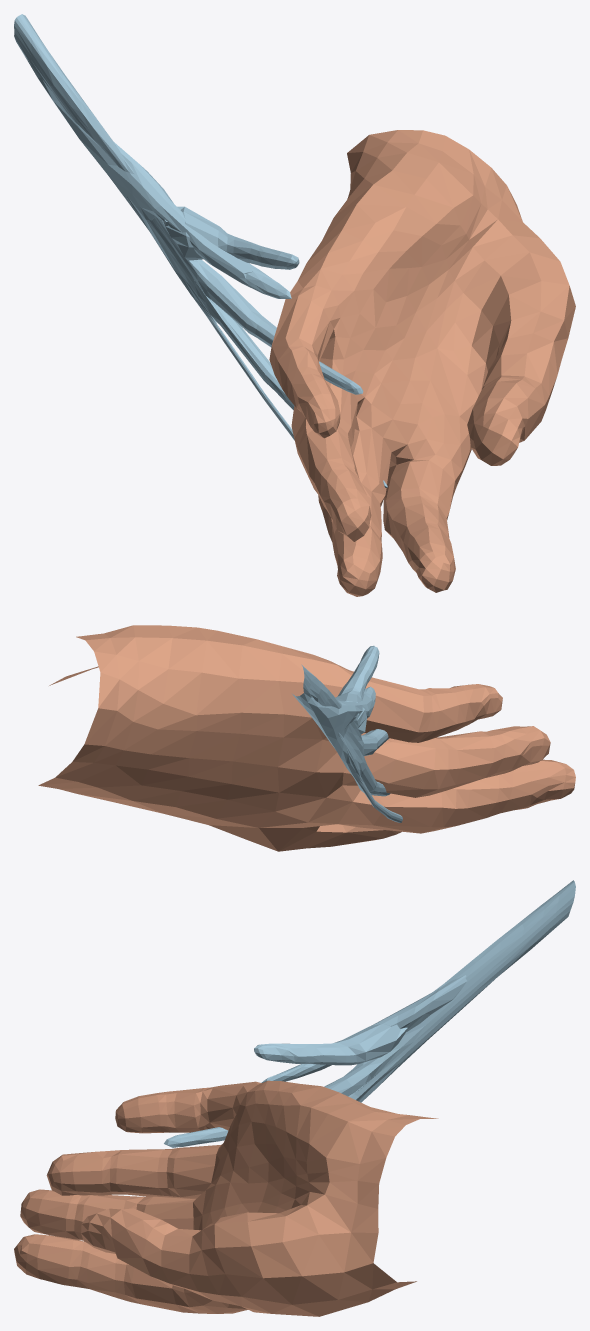
The model's file is frame_005.glb.
3 renders of one model, top to bottom at view 1: azimuth 30°, elevation 25°; view 2: azimuth 150°, elevation 25°; view 3: azimuth 270°, elevation 25°, orthographic. The views are drawn at different scales.
Parts seen in each view (by area): view 1: world; view 2: world; view 3: world.
Part boxes in pixels (x1,y1,x2,y2): world: [14, 14, 575, 596]; world: [38, 625, 575, 851]; world: [14, 880, 575, 1316].
Size of the model in its own units: 0.1313 by 0.1228 by 0.1777.
